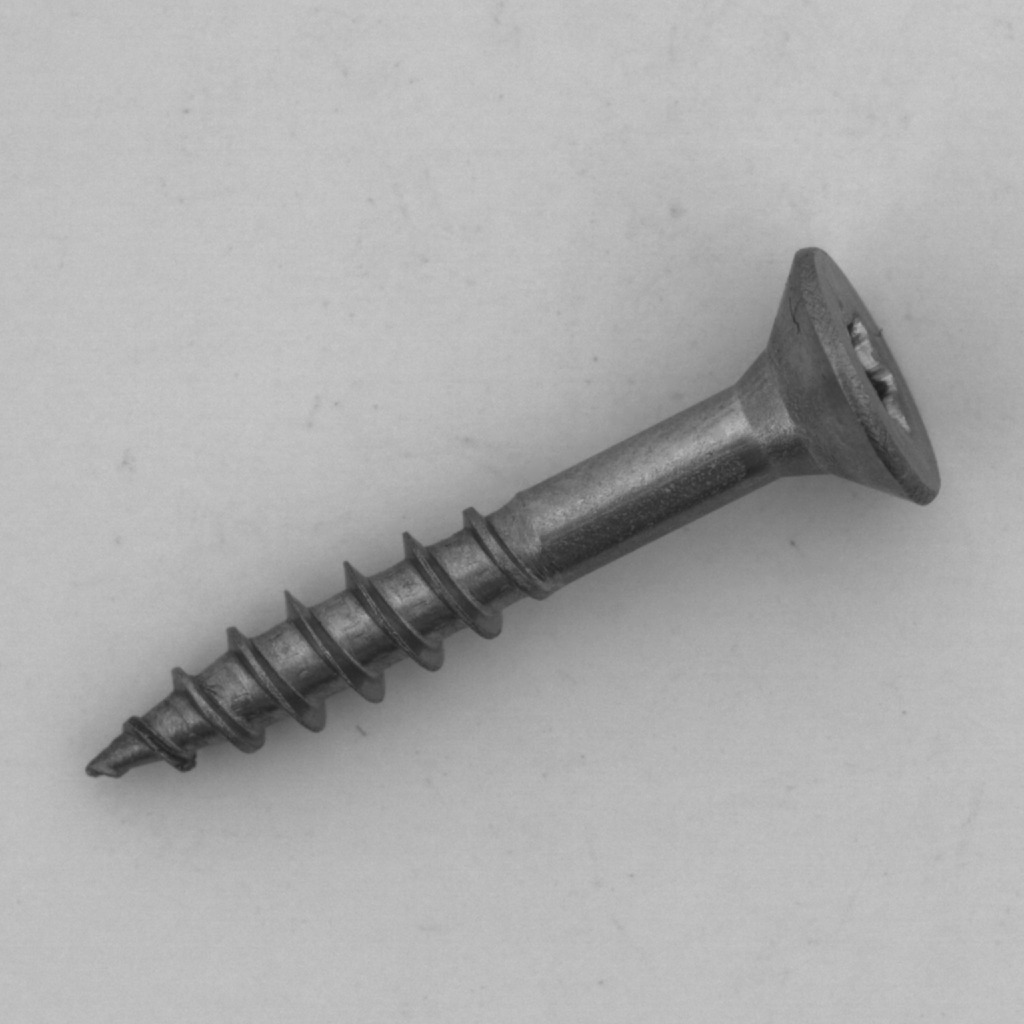good: (58, 224, 983, 805)
